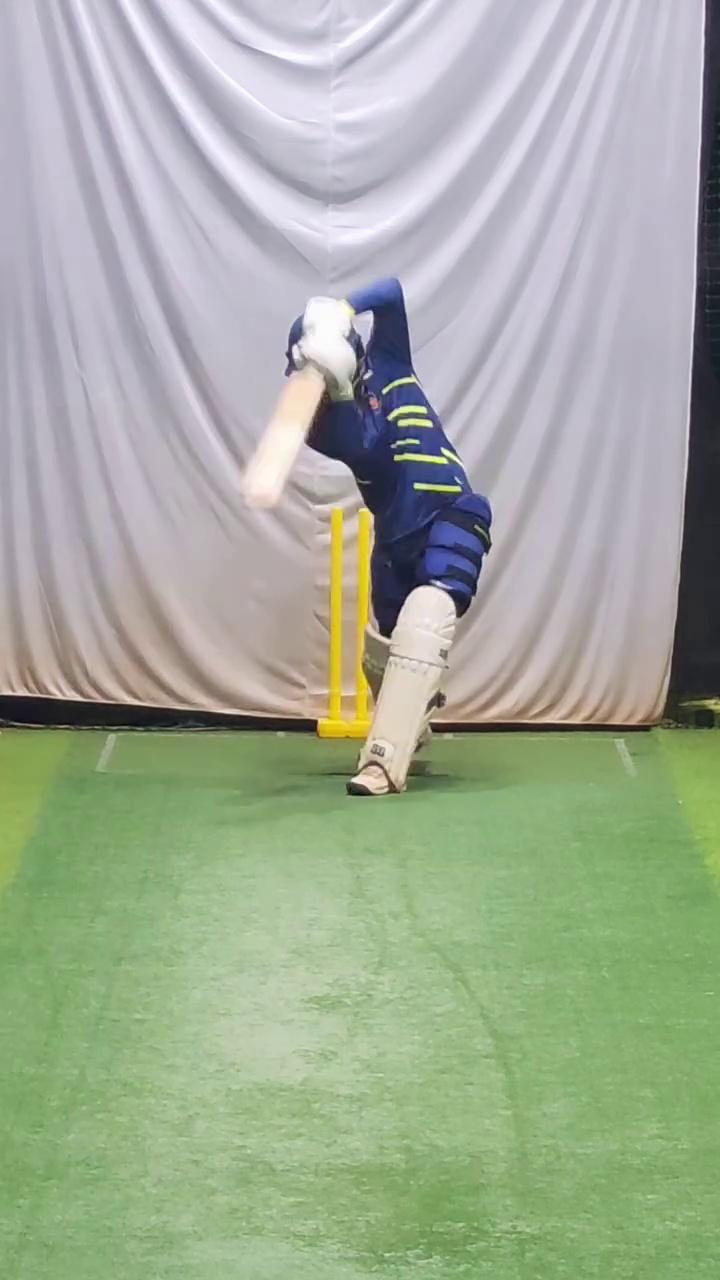bat: (237, 368, 326, 510)
